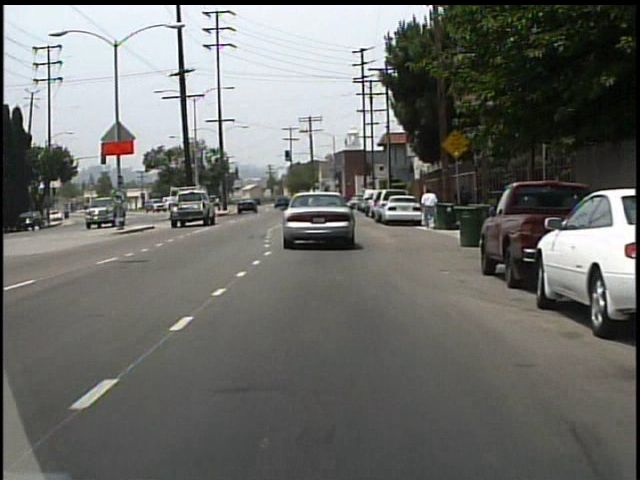person: (420, 187, 438, 231)
